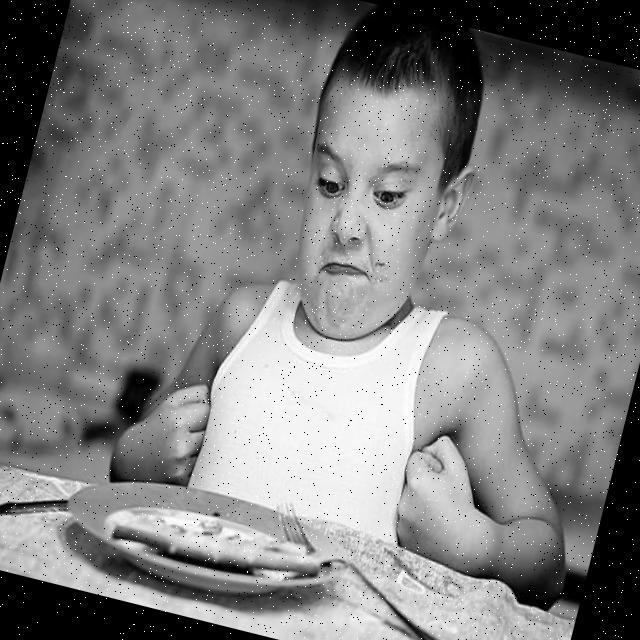Disgust: (265, 75, 464, 358)
